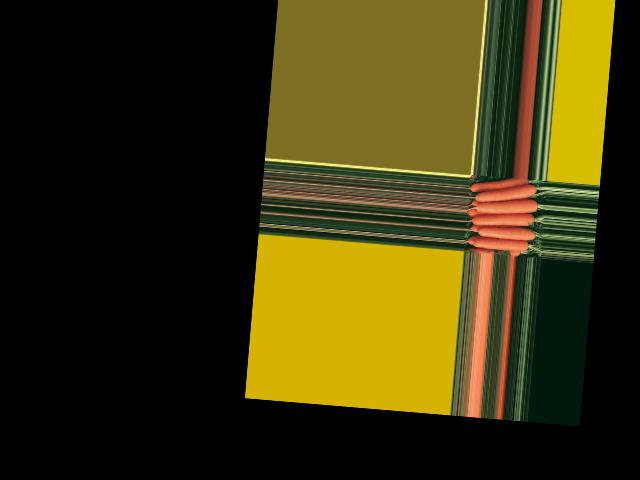carrot: (471, 174, 531, 197)
